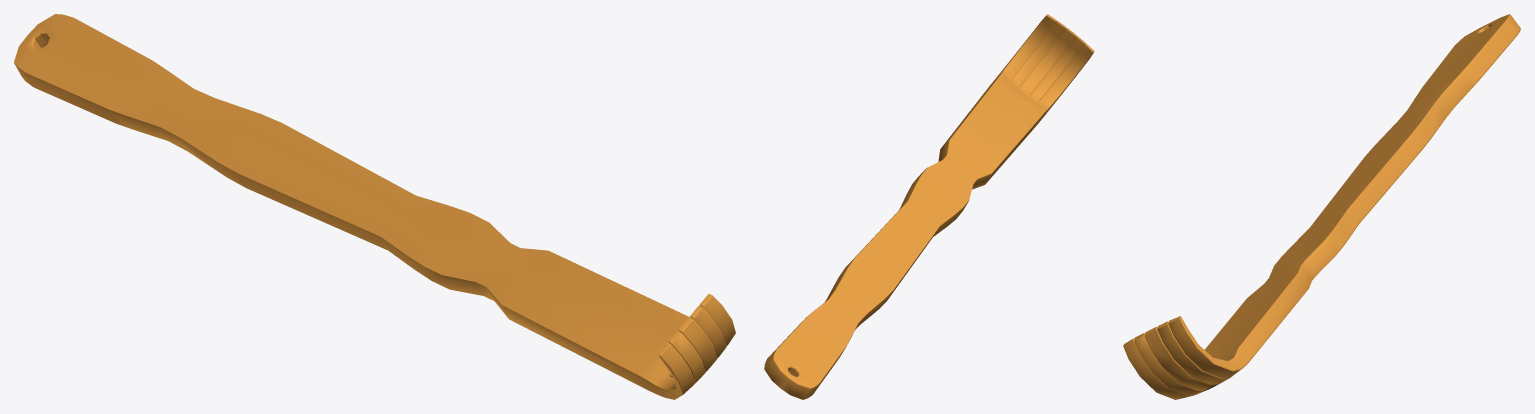
Rendered from ref_woodhand.fbx.
3 renders of one model, left to right at view 1: azimuth 30°, elevation 25°; view 2: azimuth 150°, elevation 25°; view 3: azimuth 330°, elevation 25°, orthographic. The views are drawn at different scales.
Parts seen in each view (by area): view 1: ref_woodhand; view 2: ref_woodhand; view 3: ref_woodhand.
Part boxes in pixels (x1,y1,x2,y2): ref_woodhand: (14, 14, 735, 399); ref_woodhand: (764, 14, 1094, 399); ref_woodhand: (1123, 14, 1520, 399).
Size of the model in its own units: 24.35 by 12.24 by 100.
Materials: 1 (1 with a texture image).
